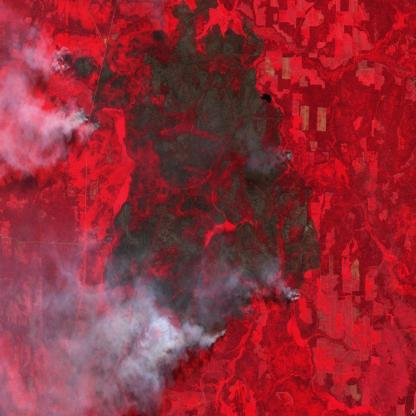fire: (120, 280, 304, 357), (53, 50, 104, 132), (280, 142, 297, 170)
